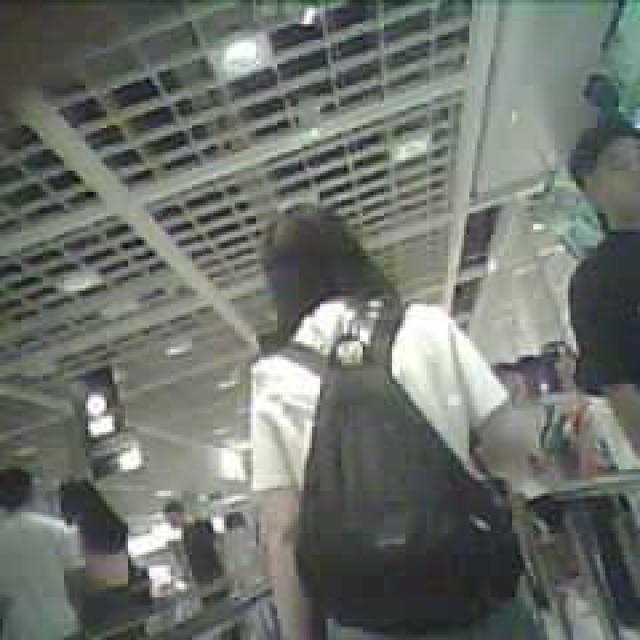person: (254, 181, 546, 640), (572, 127, 639, 457), (1, 466, 91, 640), (61, 478, 136, 604), (162, 496, 232, 587)
